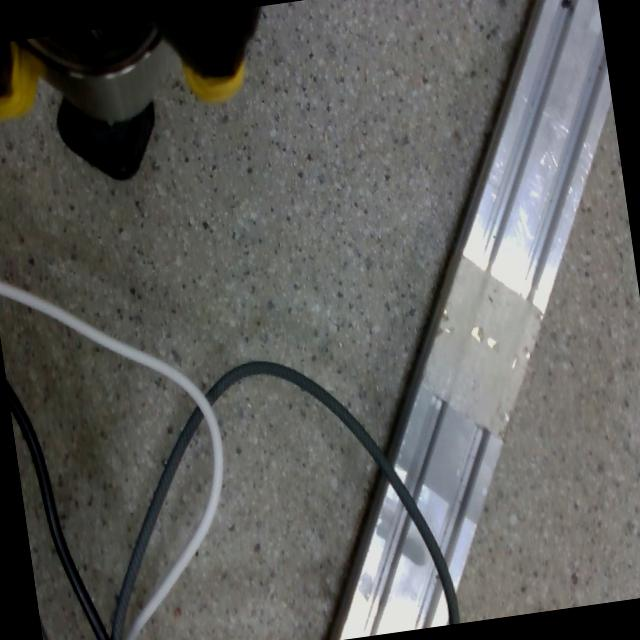cell: (52, 90, 164, 188)
